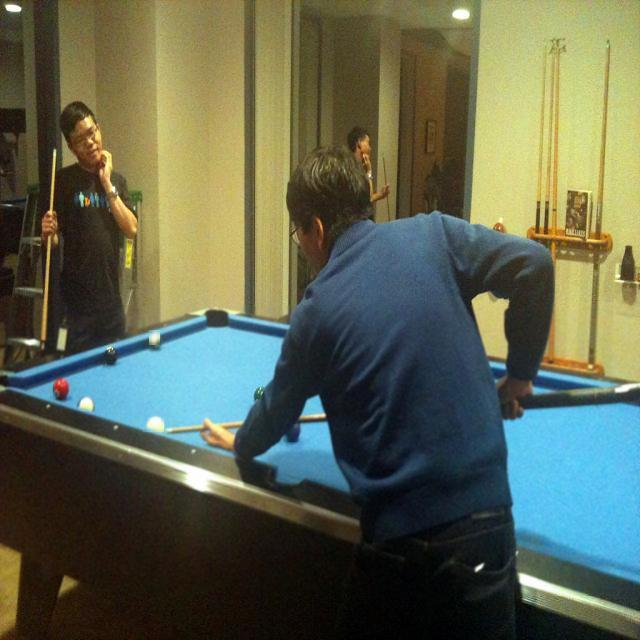Ball: (53, 380, 71, 398), (143, 418, 164, 432), (102, 344, 116, 364), (81, 393, 95, 411), (284, 424, 298, 442), (252, 386, 264, 400), (149, 330, 160, 345)
Billiard table: (0, 305, 639, 596)
